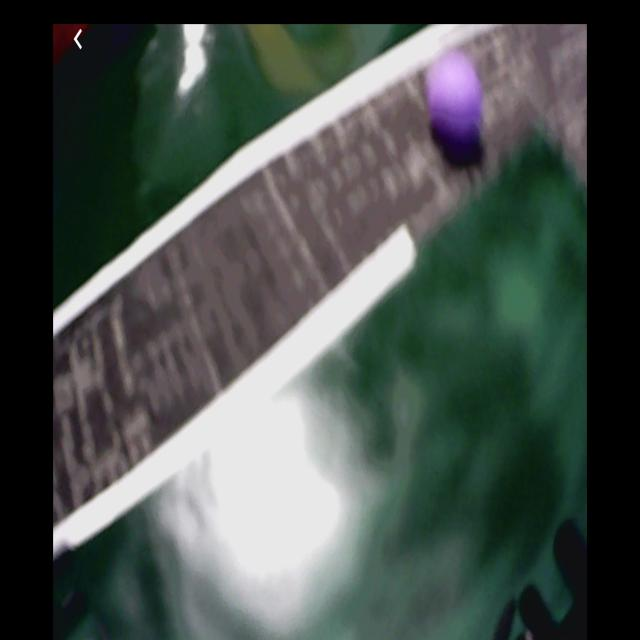ball: (424, 53, 484, 150)
